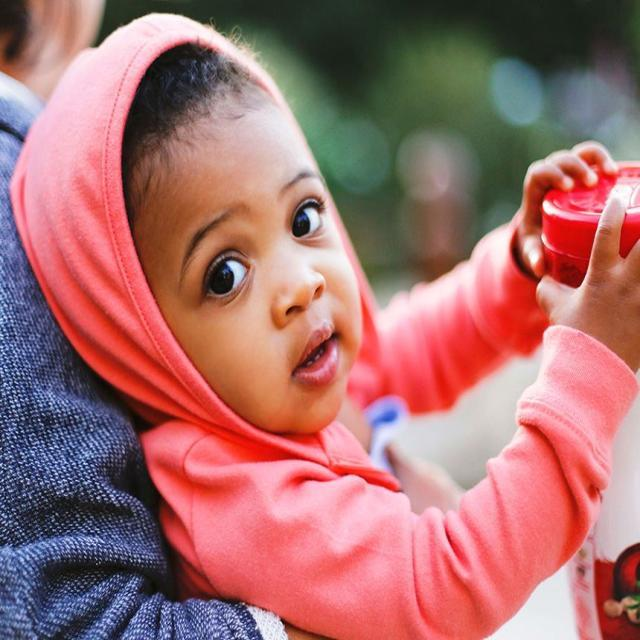non-dog: (16, 7, 640, 628), (1, 1, 310, 640)
